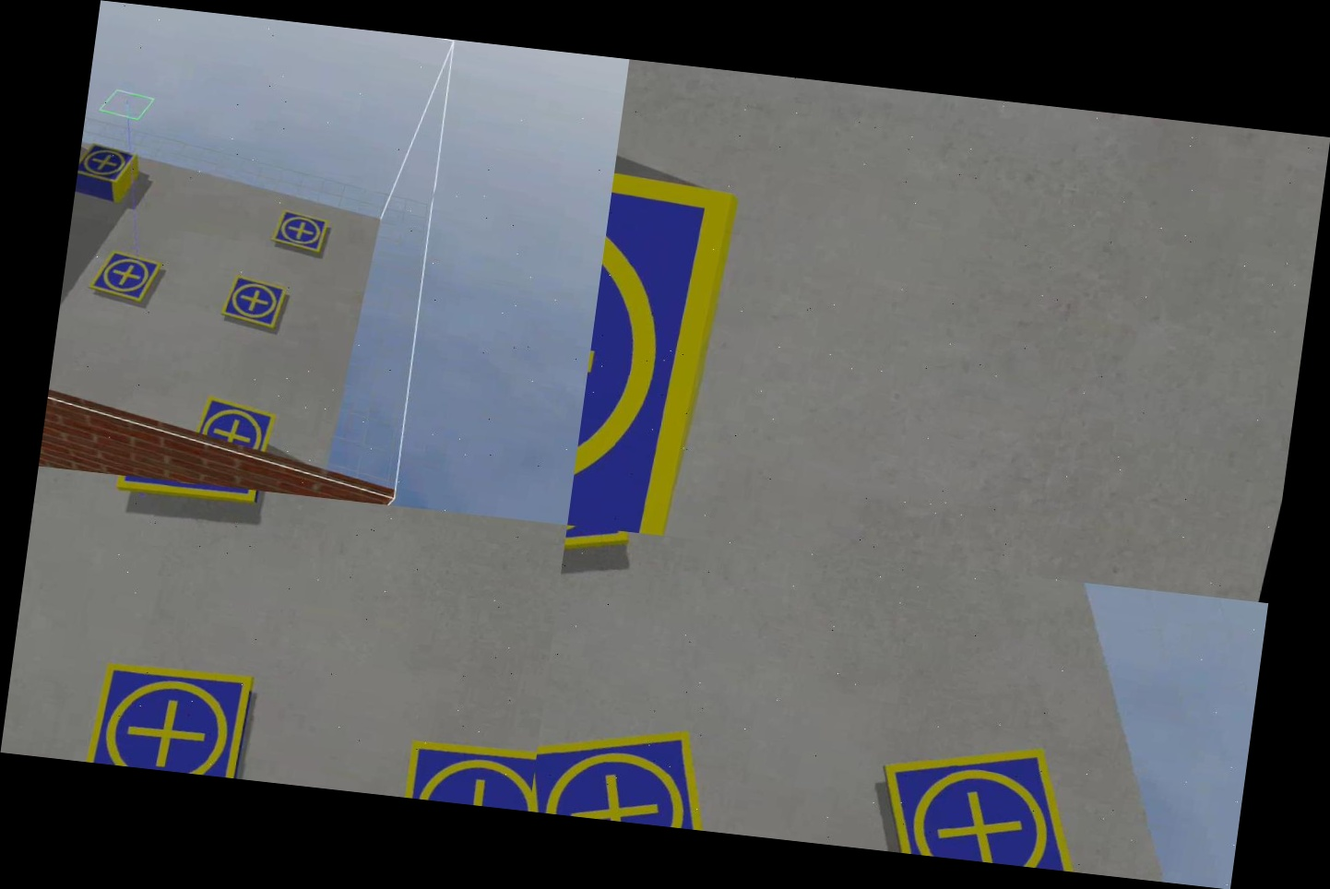small_base: (567, 142, 746, 539), (859, 720, 1114, 874), (529, 704, 742, 833), (77, 647, 265, 779), (390, 724, 539, 811), (112, 475, 271, 518), (196, 396, 279, 454), (88, 247, 163, 306), (220, 275, 289, 331), (270, 207, 333, 255), (77, 141, 139, 185)
